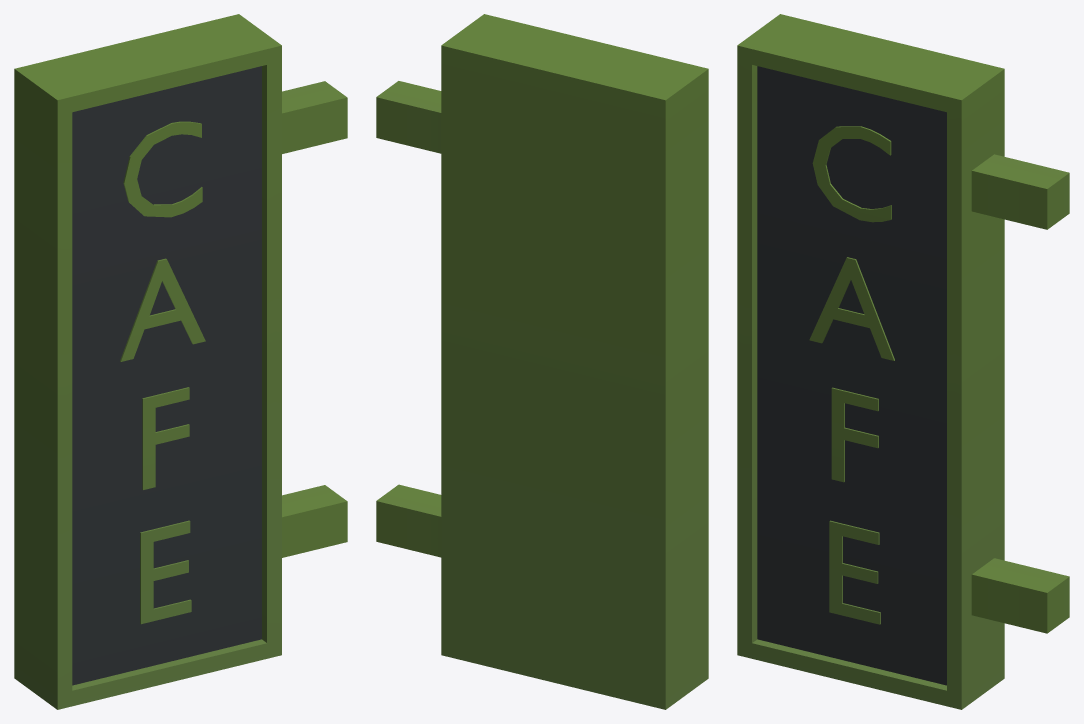
Rendered from Banner_06.fbx.
3 views of the same model, side by side, from view 1: azimuth 30°, elevation 25°; view 2: azimuth 150°, elevation 25°; view 3: azimuth 330°, elevation 25° (orthographic).
Parts seen in each view (by area): view 1: Banner_06; view 2: Banner_06; view 3: Banner_06.
Part boxes in pixels (x1,y1,x2,y2): Banner_06: (14, 14, 347, 709); Banner_06: (376, 14, 708, 709); Banner_06: (737, 14, 1069, 709).
Bounding box in the file's own units: 1.13 × 2.19 × 0.2801.
